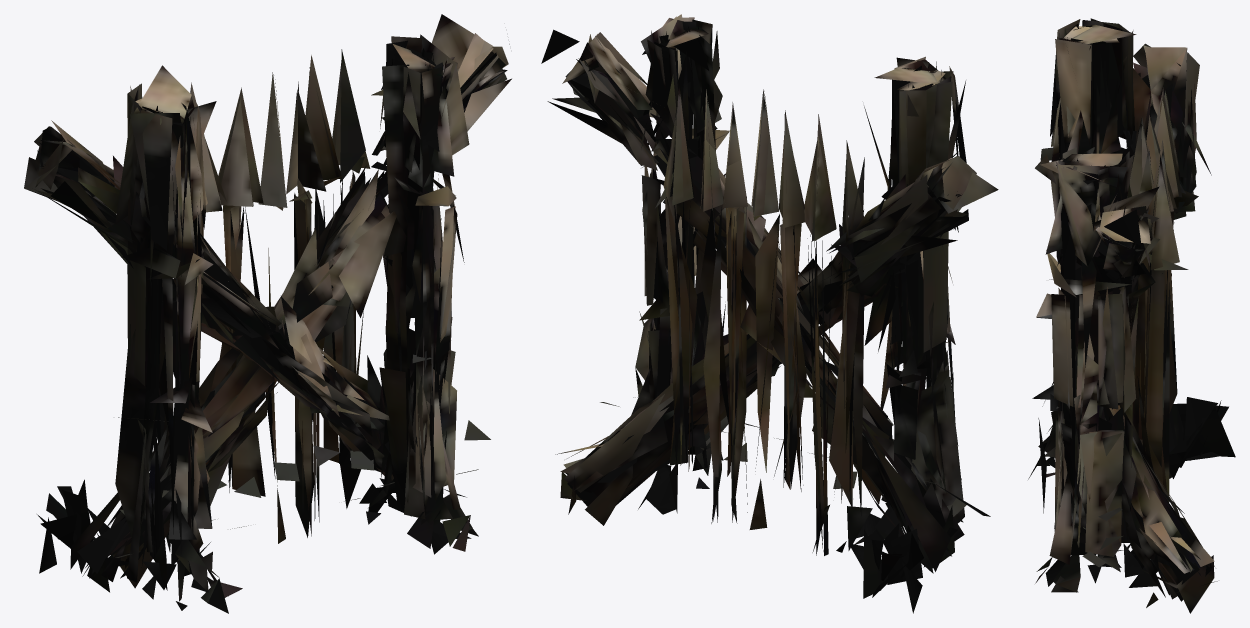
The model's file is goblin_spikes_lod.glb.
3 views of the same model, side by side, from view 1: azimuth 30°, elevation 25°; view 2: azimuth 150°, elevation 25°; view 3: azimuth 270°, elevation 25° (orthographic). The views are drawn at different scales.
Visible parts, largest first — view 1: goblin_spikes; view 2: goblin_spikes; view 3: goblin_spikes.
Part boxes in pixels (bbox=[...]): goblin_spikes: bbox=[24, 14, 511, 613]; goblin_spikes: bbox=[541, 14, 998, 613]; goblin_spikes: bbox=[1028, 18, 1235, 613].
Bounding box in the file's own units: 1.41 × 1.46 × 0.6031.
1 material, 1 textured.
